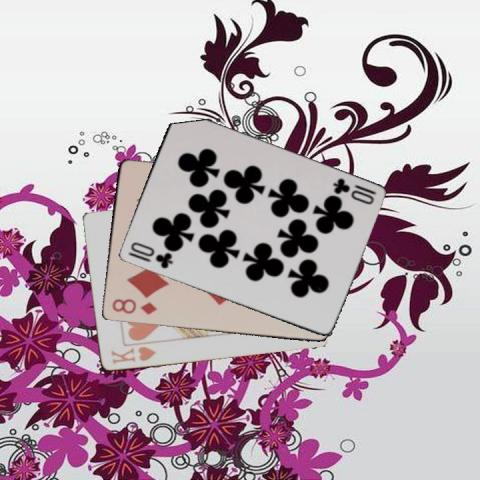10c: (125, 238, 174, 270), (329, 175, 377, 206)
8d: (109, 296, 158, 316)
Kh: (107, 343, 157, 366)
